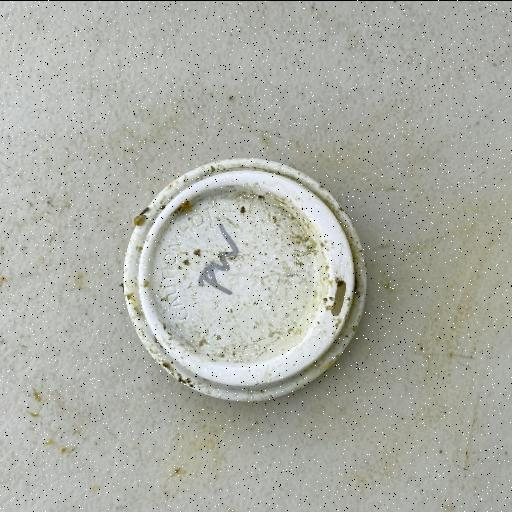Plastic: (120, 154, 370, 404)
